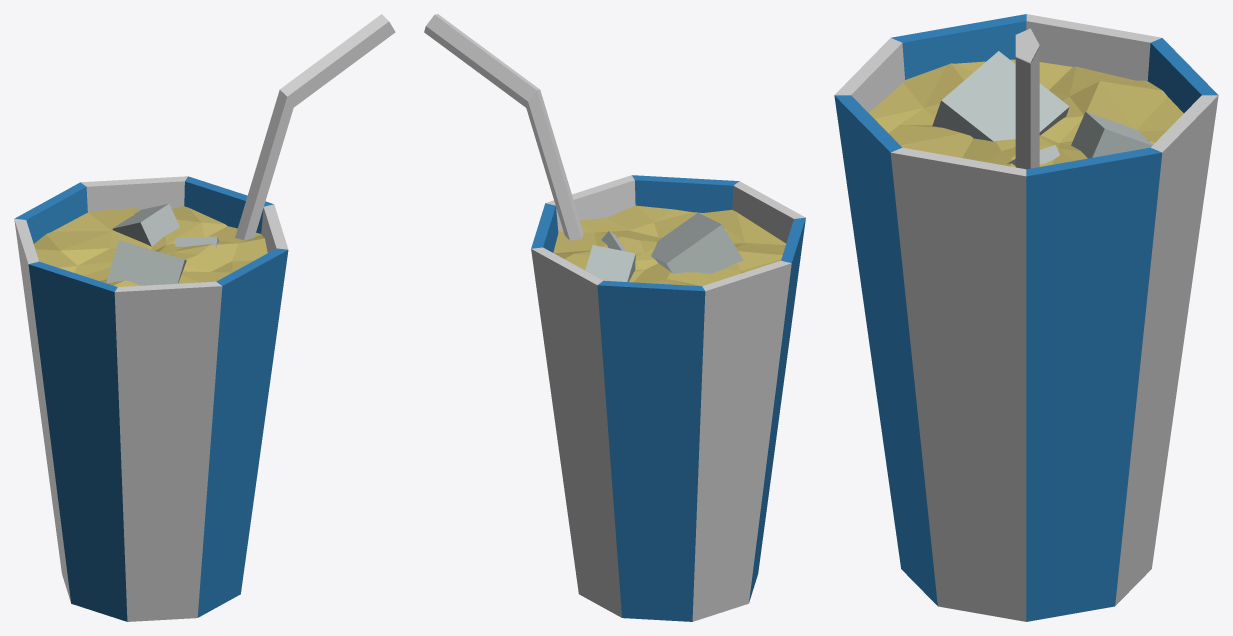
File: Cocktail_Blue_vc.fbx
3 views of the same model, side by side, from view 1: azimuth 30°, elevation 25°; view 2: azimuth 150°, elevation 25°; view 3: azimuth 270°, elevation 25° (orthographic). The views are drawn at different scales.
Parts seen in each view (by area): view 1: Cocktail_Blue_vc; view 2: Cocktail_Blue_vc; view 3: Cocktail_Blue_vc.
Boxes of the visible parts, x1,y1,x2,y2 form: Cocktail_Blue_vc: [14, 14, 395, 621]; Cocktail_Blue_vc: [424, 14, 805, 621]; Cocktail_Blue_vc: [834, 14, 1218, 621].
Size of the model in its own units: 30.69 by 41.15 by 20.66.
